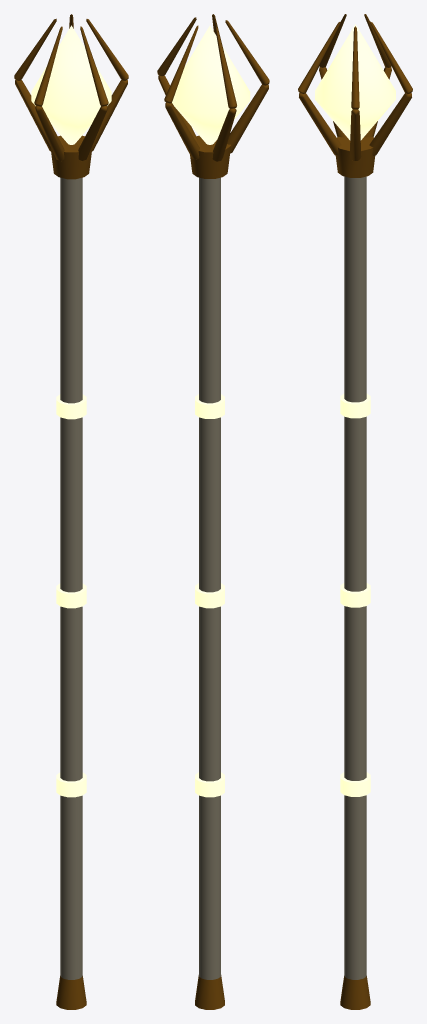
Rendered from Arma_CetroAuroraVelada.fbx.
3 renders of one model, left to right at view 1: azimuth 90°, elevation 25°; view 2: azimuth 150°, elevation 25°; view 3: azimuth 270°, elevation 25°, orthographic.
Parts seen in each view (by area): view 1: Piece; view 2: Piece; view 3: Piece.
Boxes of the visible parts, box(x1,y1,x2,y2) form: Piece: box(14, 14, 128, 1009); Piece: box(157, 14, 269, 1009); Piece: box(298, 14, 412, 1009).
Bounding box in the file's own units: 0.2091 × 2.08 × 0.2199.
